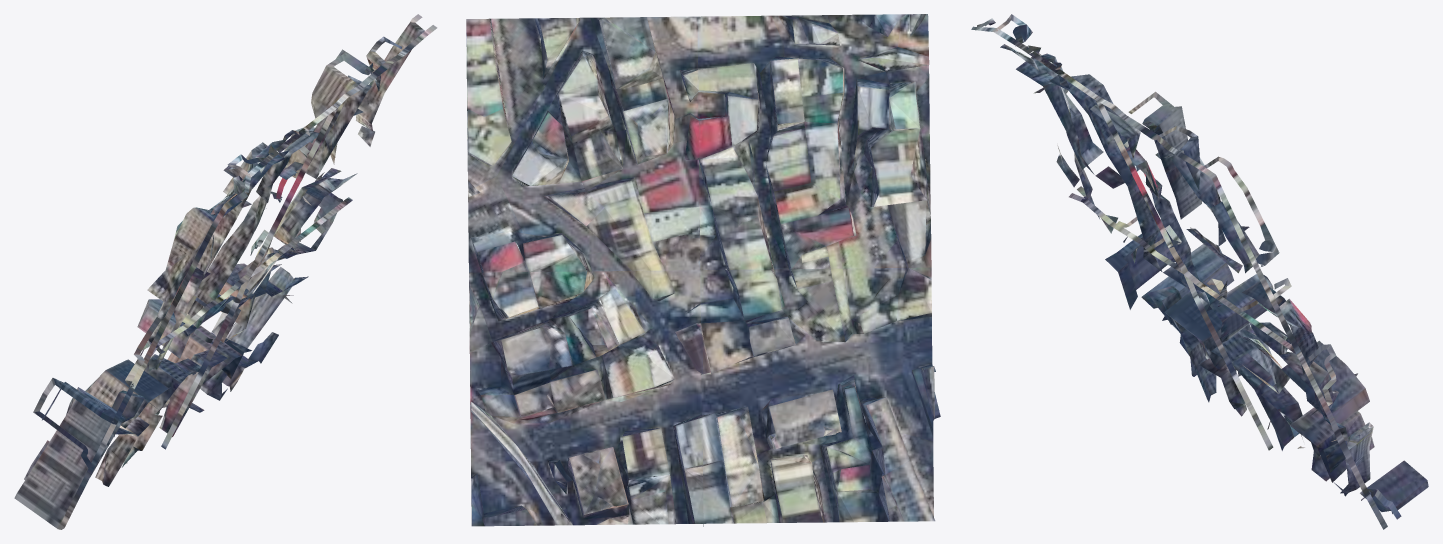
The picture shows the model from 3 angles, left to right: view 1: azimuth 30°, elevation 25°; view 2: azimuth 150°, elevation 25°; view 3: azimuth 270°, elevation 25°; orthographic projection. The views are drawn at different scales.
Bounding box in the file's own units: 323 × 290 × 290.
1 material, 1 textured.
